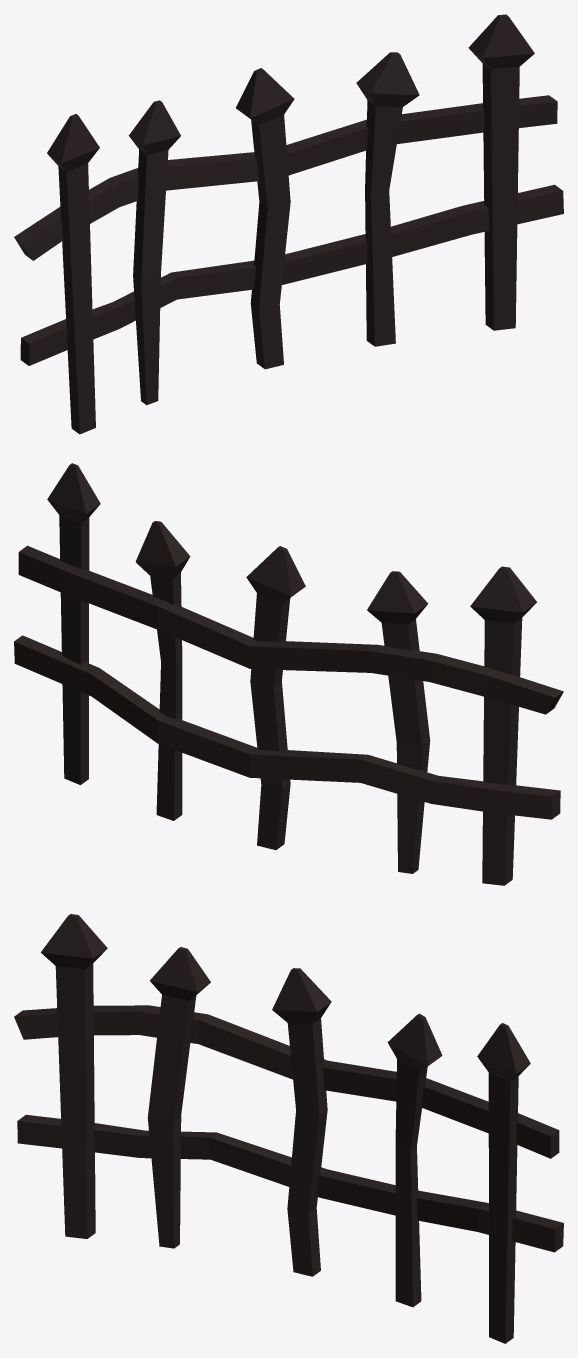
The model's file is fenceC2.glb.
3 renders of one model, top to bottom at view 1: azimuth 30°, elevation 25°; view 2: azimuth 150°, elevation 25°; view 3: azimuth 330°, elevation 25°, orthographic.
Parts seen in each view (by area): view 1: fenceC2; view 2: fenceC2; view 3: fenceC2.
Boxes of the visible parts, box(x1,y1,x2,y2) form: fenceC2: box(14, 14, 563, 434); fenceC2: box(14, 463, 563, 885); fenceC2: box(14, 914, 563, 1343).
Bounding box in the file's own units: 1.76 × 0.9783 × 0.2287.
Materials: 1 (1 with a texture image).
